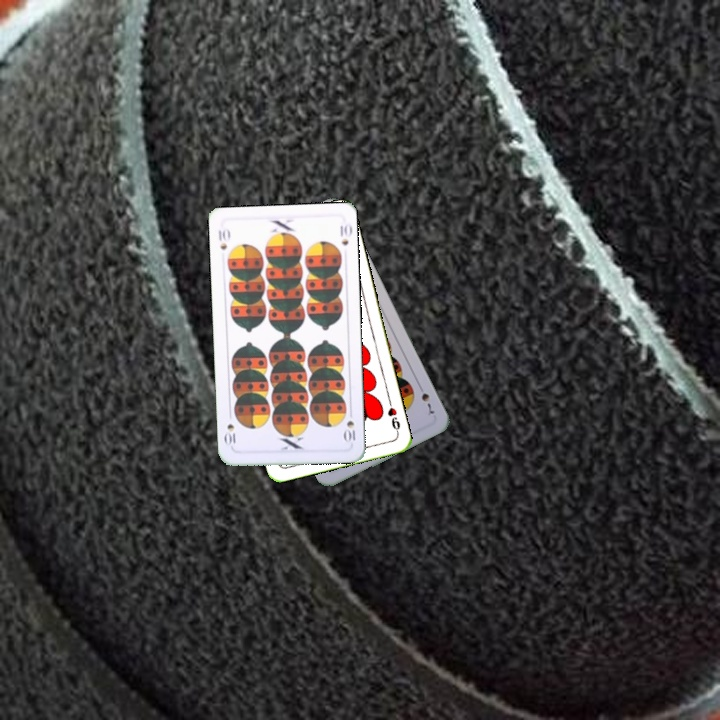H9: (383, 397, 403, 437)
S10: (341, 406, 358, 445), (214, 225, 232, 252)
S7: (414, 380, 436, 417)
